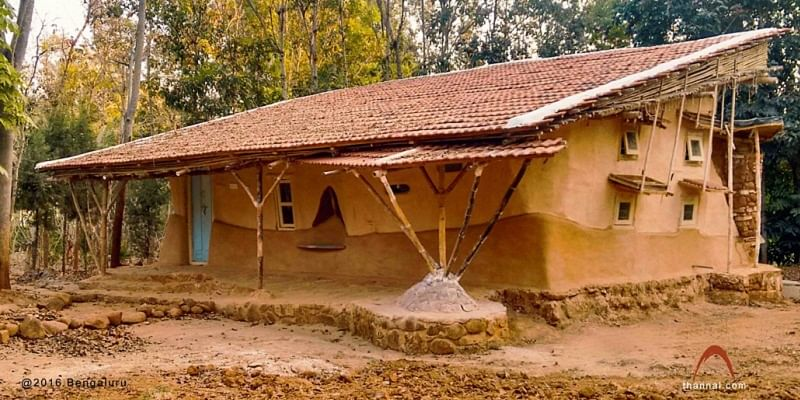Mud House: (119, 42, 776, 319)
